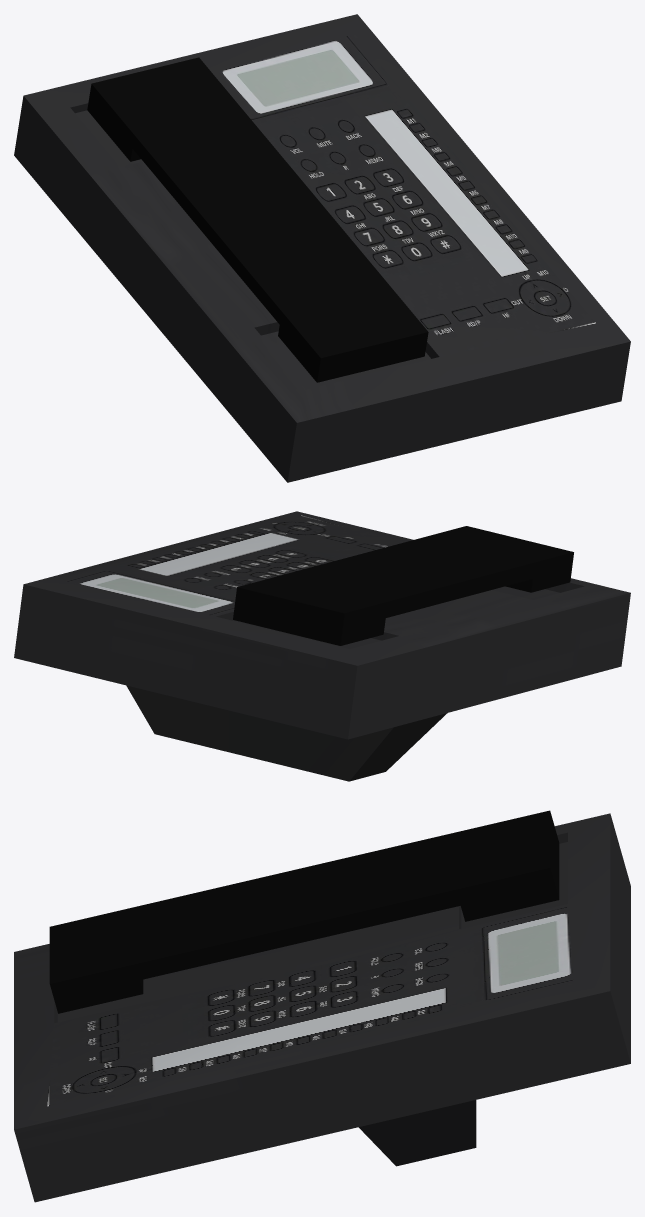
The model's file is Phone.fbx.
3 views of the same model, one above another, from view 1: azimuth 30°, elevation 25°; view 2: azimuth 150°, elevation 25°; view 3: azimuth 270°, elevation 25° (orthographic). The views are drawn at different scales.
Visible parts, largest first — view 1: Cube, Cube.001; view 2: Cube, Cube.001; view 3: Cube, Cube.001.
Boxes of the visible parts, bbox=[...] form: Cube: bbox=[14, 14, 630, 482]; Cube.001: bbox=[87, 57, 428, 382]; Cube: bbox=[14, 511, 630, 781]; Cube.001: bbox=[233, 526, 573, 645]; Cube: bbox=[14, 813, 630, 1202]; Cube.001: bbox=[49, 810, 559, 1013].
Bounding box in the file's own units: 134 × 83.24 × 197.
2 materials, 1 textured.
